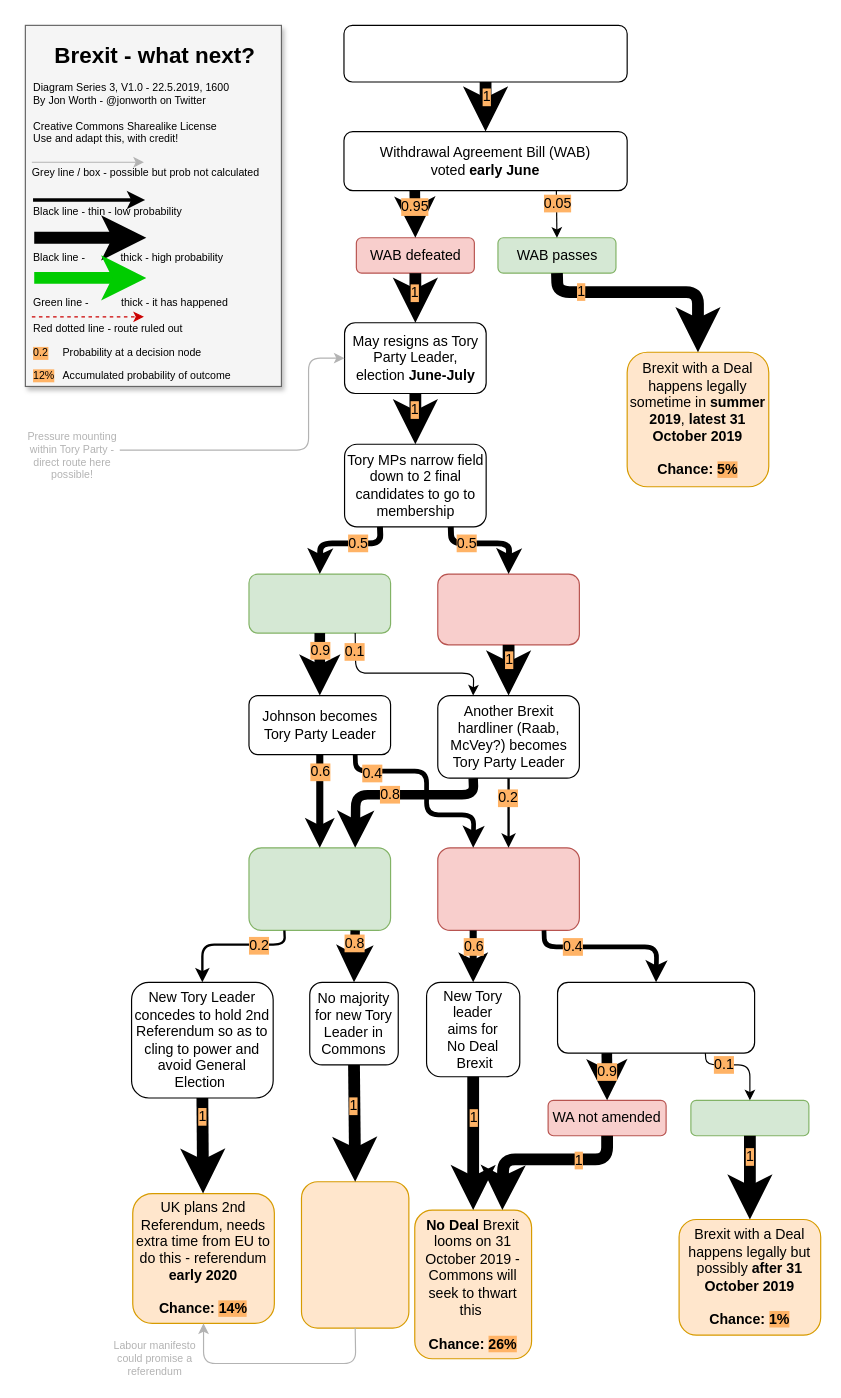
The diagram is 841 pixels wide and 1398 high, and some of its shapes have lost their labels. Here are the shapes that lost their labels. From the top down, the centre of each, then its label:
At [485,53]: "Withdrawal Agreement Bill (WAB) published 24 May".
At [319,603]: "Boris Johnson makes it to final 2".
At [508,609]: "Boris Johnson doesn't make it to final 2".
At [319,888]: "Enough Tory pragmatists resign whip to deny Tories a majority".
At [508,888]: "Not enough Tory pragmatists resign whip to deny Tories a majority".
At [655,1017]: "New Tory leader - safe in office for now - goes to 🇪🇺 to demand changes to WA".
At [749,1117]: "WA amended".
At [354,1254]: "UK heads for a General Election sometime before 31 Oct 2019 Chance: 54%".
